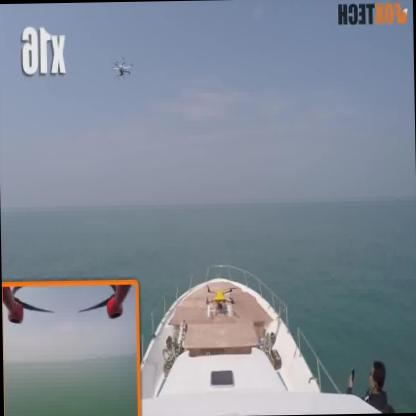drone: (109, 53, 139, 84)
